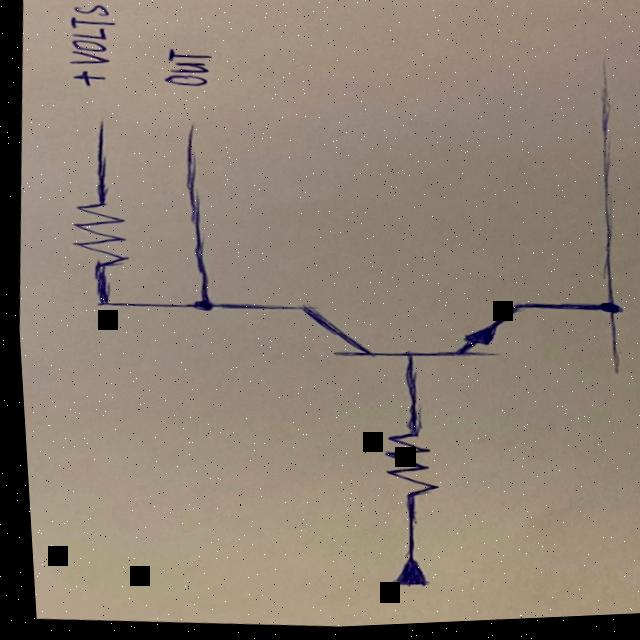junction: (577, 296, 632, 328), (172, 292, 222, 320), (85, 300, 106, 310)
resistor: (355, 425, 446, 510), (55, 193, 140, 278)
terminal: (374, 556, 428, 598), (591, 57, 613, 83), (88, 113, 109, 131), (177, 120, 197, 138), (600, 373, 619, 383)
text: (56, 0, 117, 70), (151, 47, 216, 92), (62, 68, 113, 93)
transistor: (278, 276, 532, 382)
